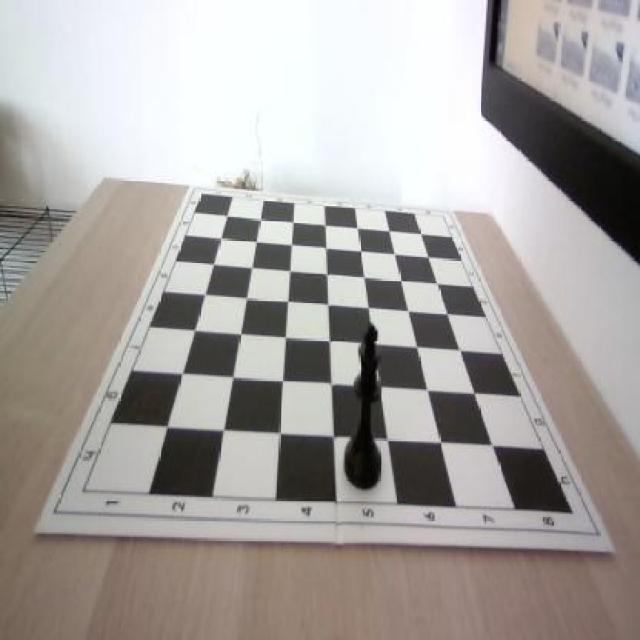black-bishop: (343, 325, 384, 492)
